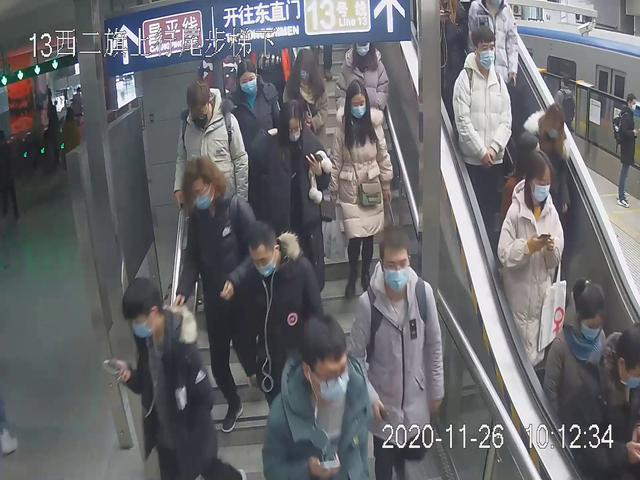person: (172, 155, 277, 434), (110, 274, 249, 480), (342, 226, 447, 480), (492, 147, 571, 400), (251, 98, 334, 308), (327, 81, 394, 314), (171, 77, 248, 269), (451, 22, 514, 242)
